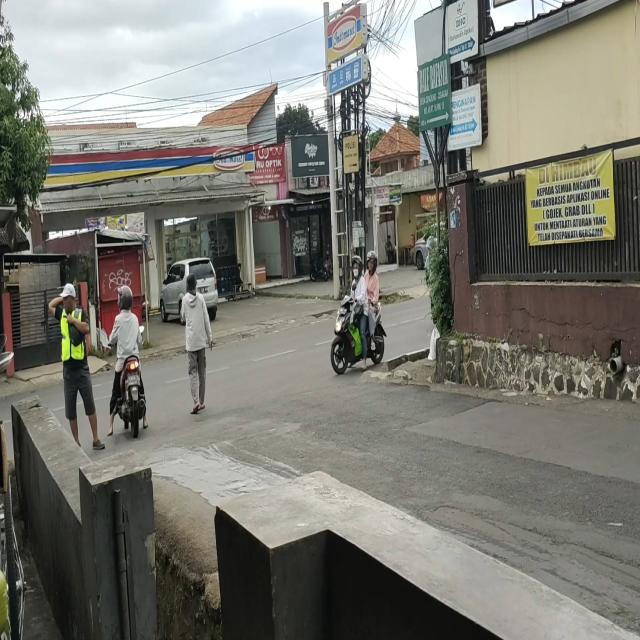helmet: (117, 284, 132, 316), (349, 256, 363, 286), (367, 250, 377, 286)
